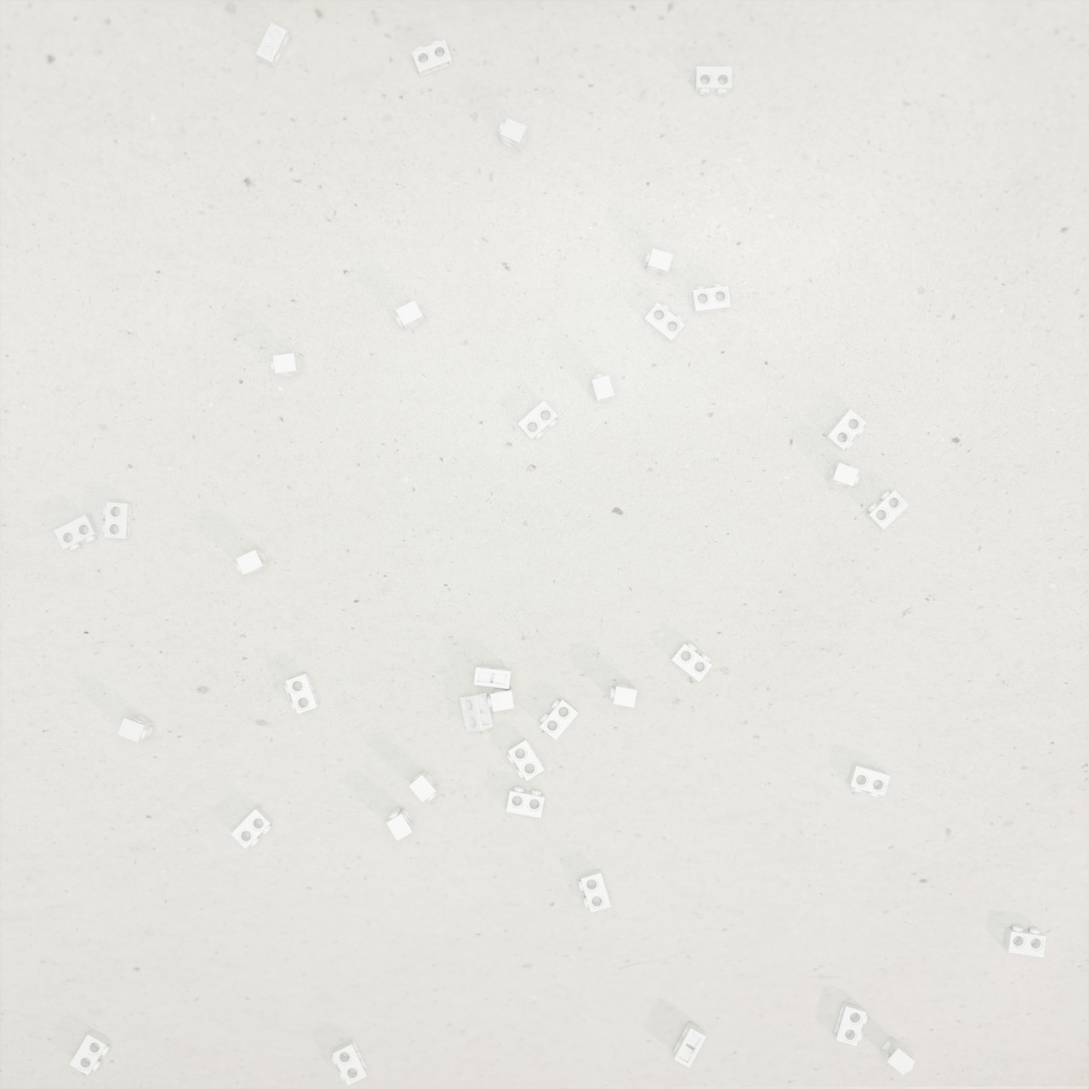lego: (70, 1029, 111, 1076), (230, 806, 273, 849), (825, 409, 867, 451), (332, 1039, 369, 1086), (643, 302, 685, 343), (866, 490, 909, 530), (539, 698, 579, 740), (670, 642, 712, 682), (54, 515, 100, 551), (507, 738, 545, 781), (256, 22, 291, 68), (518, 400, 558, 440), (672, 1022, 706, 1068), (833, 1001, 867, 1046), (412, 40, 453, 77), (284, 672, 320, 714), (847, 763, 890, 797), (578, 869, 611, 913), (1003, 925, 1046, 957), (879, 1037, 915, 1075), (459, 692, 493, 732), (506, 786, 545, 818), (691, 284, 731, 314), (102, 502, 132, 539), (695, 66, 732, 95), (117, 714, 153, 742), (408, 769, 438, 802), (498, 118, 527, 152), (386, 808, 415, 841), (395, 300, 425, 331), (474, 665, 511, 689), (826, 462, 860, 488), (235, 549, 269, 575), (644, 248, 673, 278), (271, 353, 302, 377), (591, 373, 615, 404), (609, 683, 637, 708), (487, 687, 515, 712)
